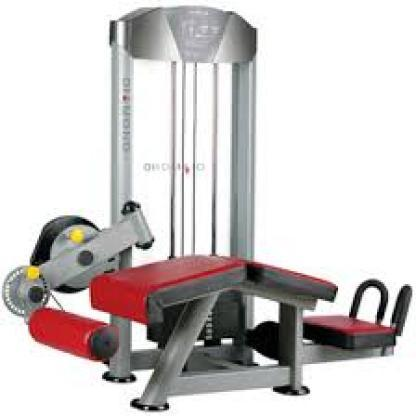reg curl machine: (2, 4, 412, 412)
